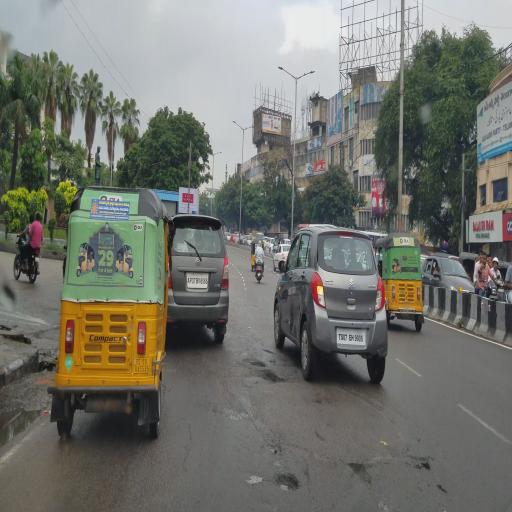street_light_0: (268, 59, 296, 79), (294, 60, 321, 80), (242, 116, 258, 136), (227, 116, 243, 134), (212, 144, 226, 163)
